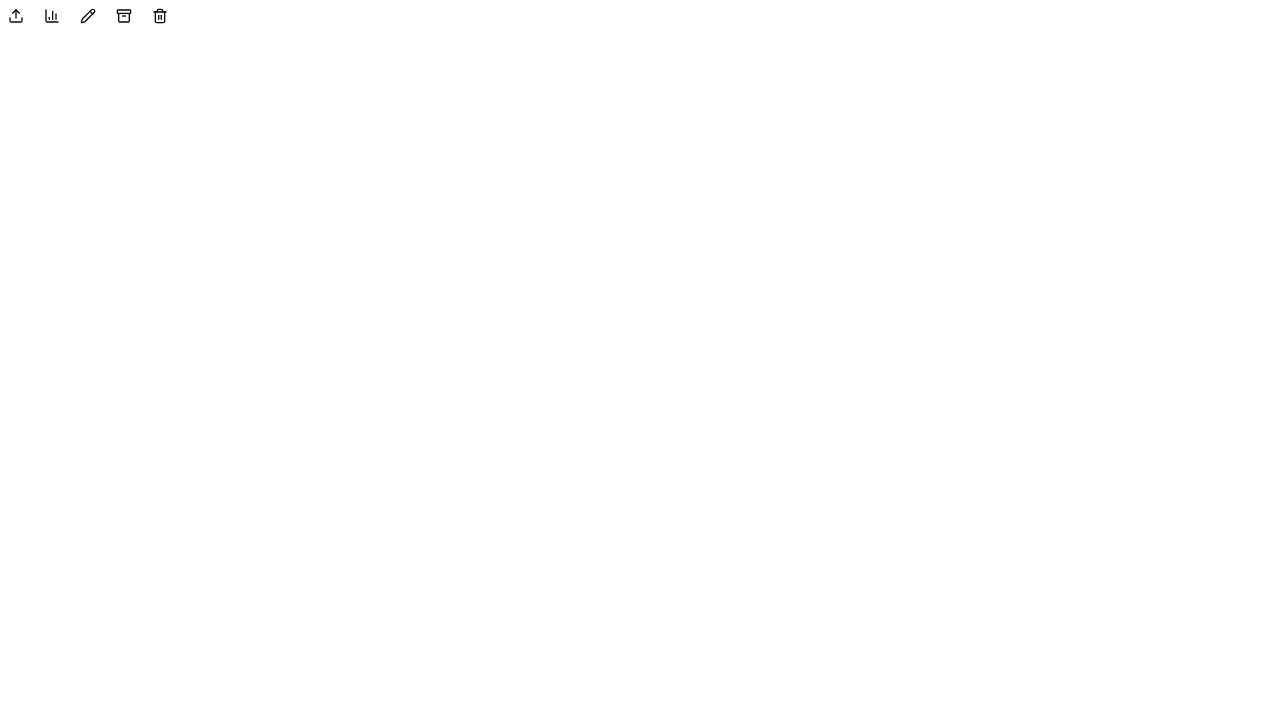
ProjectActions › opens archive confirmation dialog when Archive project is clicked
Step 1. Click the button named "archive project" → (124, 16), box top-left (108, 0), bottom-right (140, 32)
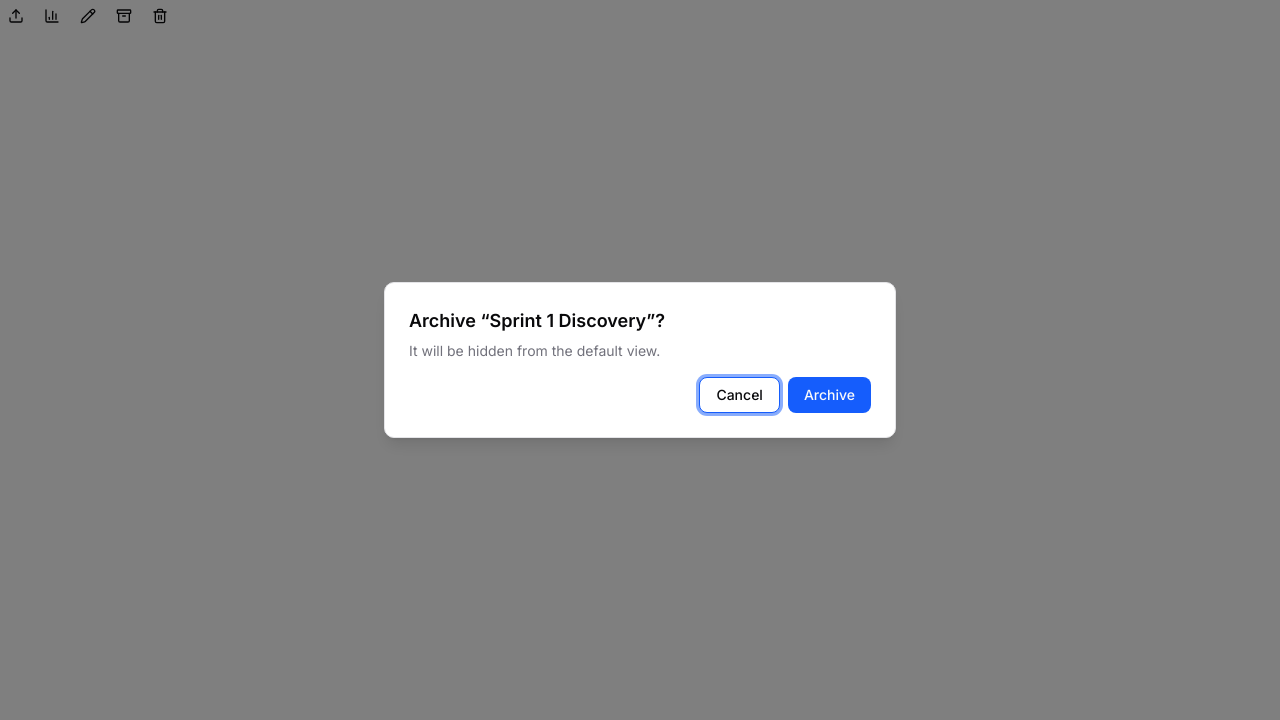
Expected: the dialog is shown, top-left (384, 282), bottom-right (896, 438)
Expected: the heading "Archive “Sprint 1 Discovery”?" is shown, top-left (409, 307), bottom-right (665, 335)
